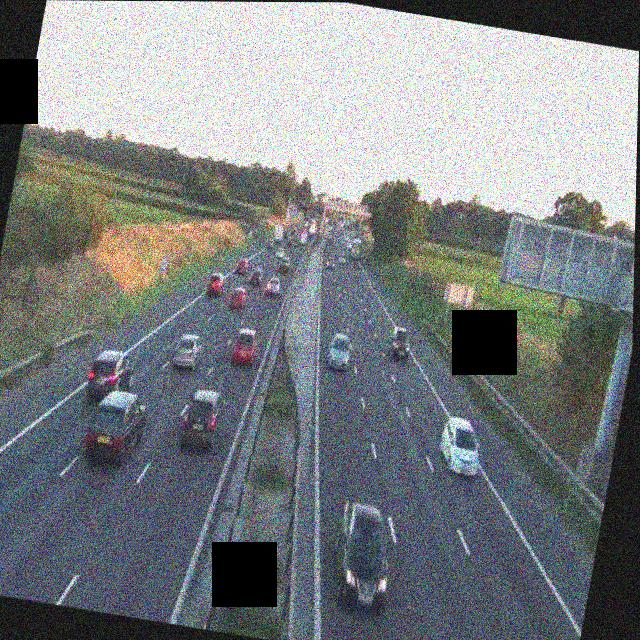car: (325, 500, 400, 612), (82, 389, 150, 469), (82, 346, 138, 410), (178, 386, 228, 451), (435, 415, 487, 477), (170, 331, 205, 374), (231, 327, 260, 366), (326, 330, 353, 371), (386, 325, 413, 362), (206, 273, 226, 297), (230, 284, 247, 309), (248, 265, 266, 287), (264, 276, 282, 298), (276, 254, 291, 274), (235, 258, 249, 276), (326, 254, 336, 270), (269, 238, 279, 253)
truck: (346, 237, 362, 262), (268, 223, 284, 247)
